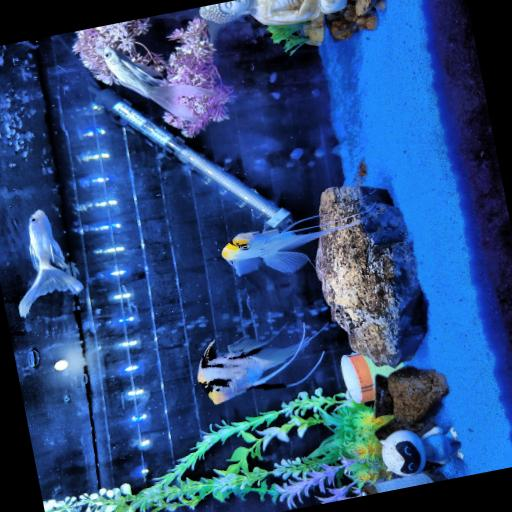Fish: (198, 329, 323, 403), (103, 46, 216, 121), (222, 215, 359, 274), (19, 209, 83, 315)
